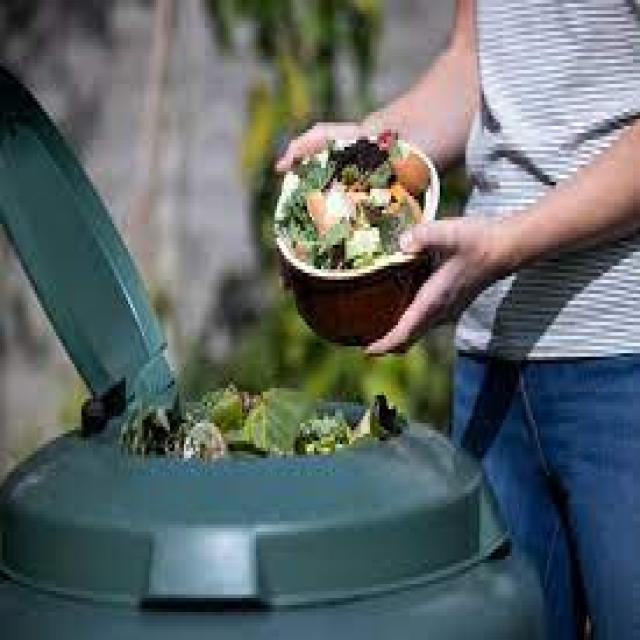Wet: (285, 150, 419, 251)
